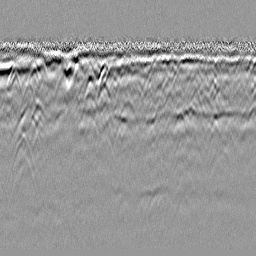cavity: (113, 97, 142, 142)
